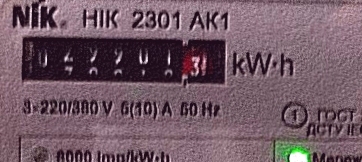0: (135, 42, 151, 68), (34, 46, 50, 69)
1: (162, 43, 175, 67)
2: (61, 42, 76, 64)
3: (187, 55, 203, 79)
9: (111, 44, 124, 67), (87, 42, 99, 64)
screen: (13, 29, 235, 95)
